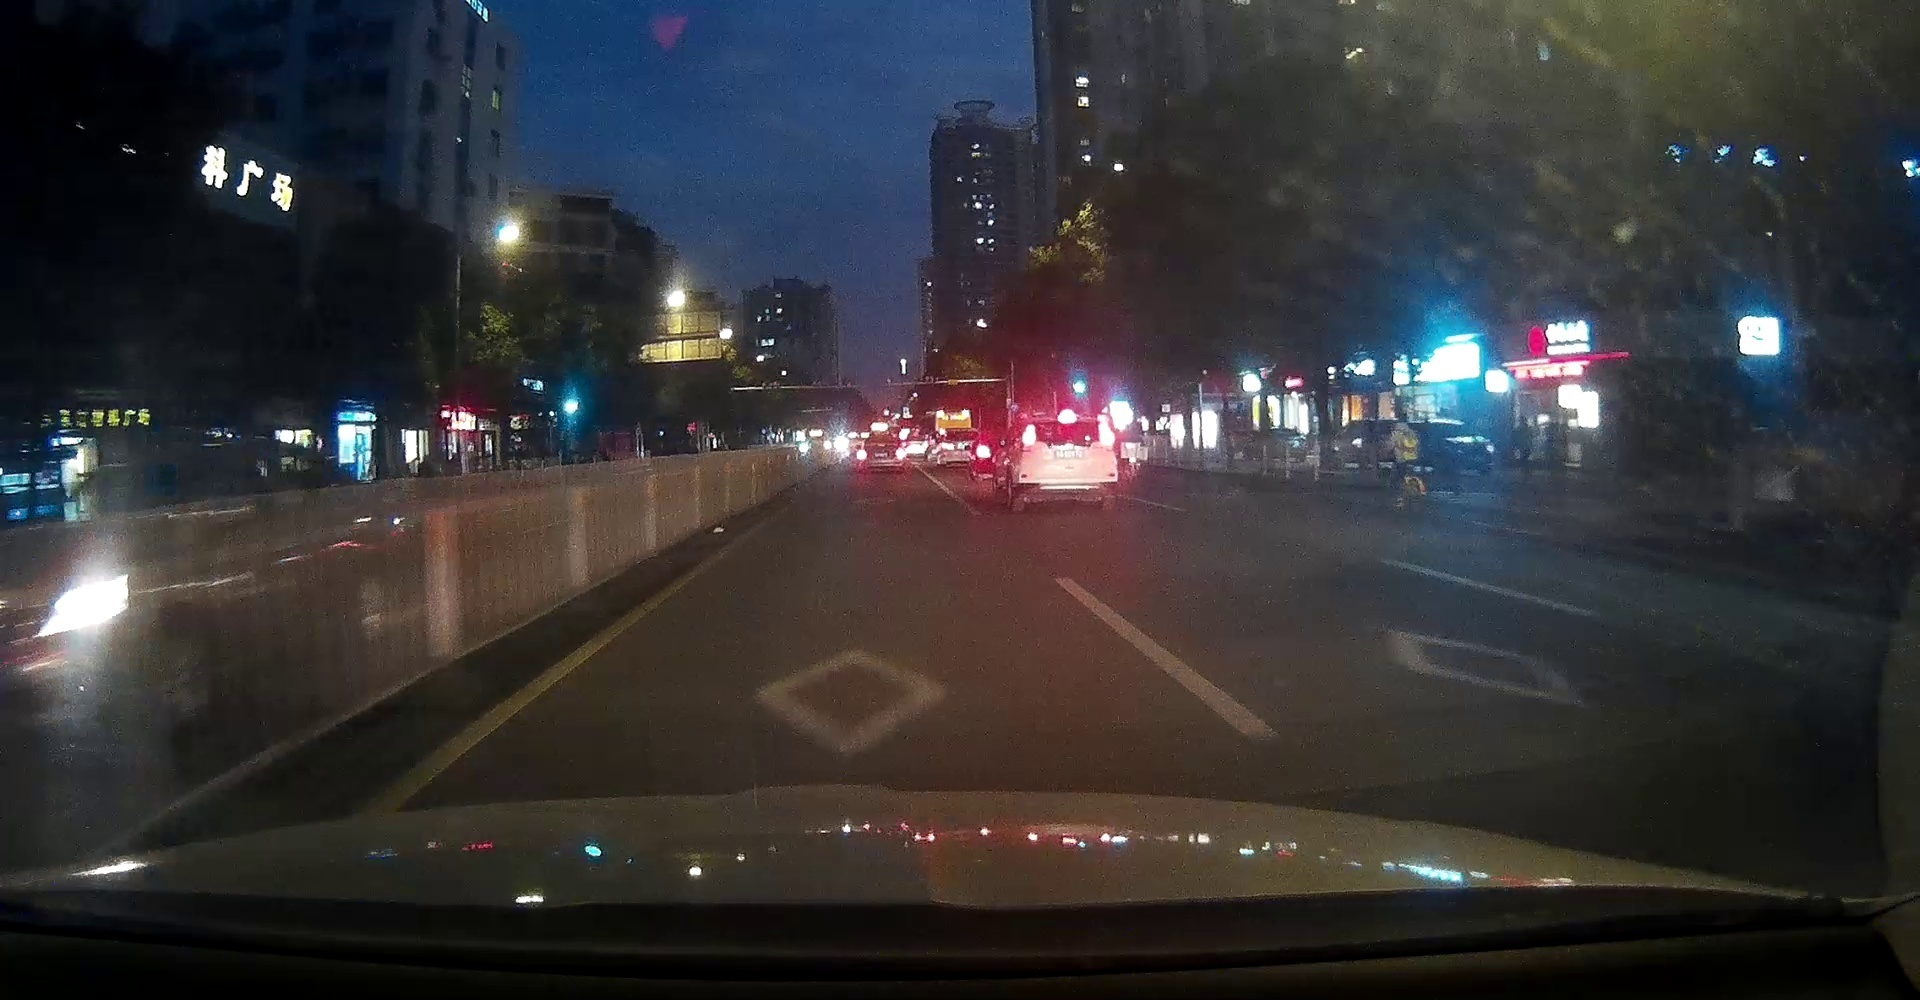L_light: (1020, 424, 1036, 452)
R_light: (1098, 425, 1115, 452)
T_light: (1058, 420, 1077, 425)
night-no: (1012, 415, 1117, 511)
